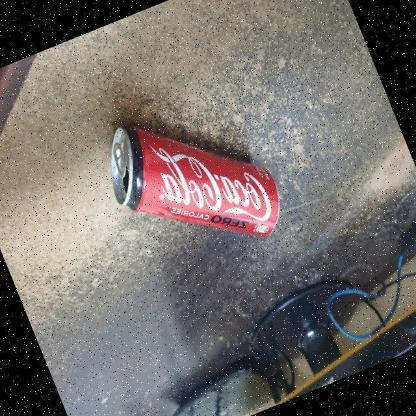Can: (92, 121, 292, 256)
